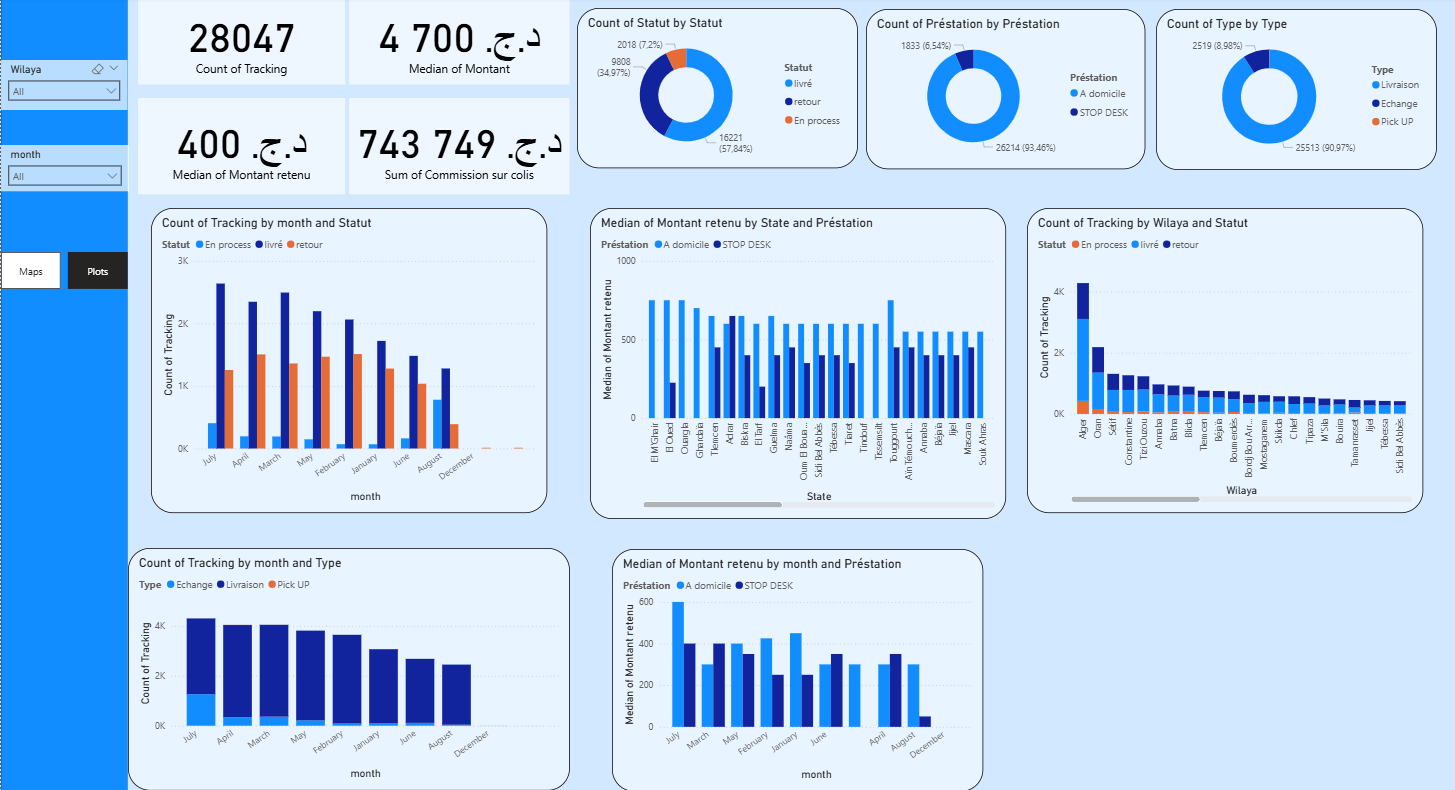

Layout of this report page (visuals, bound fields, positions):
{"tool":"powerbi","page":{"name":"Page 1","canvas":[1980,1080],"ordinal":0},"visuals":[{"type":"shape","box":[0,0,172.4,1080.1],"z":0},{"type":"donutChart","fields":{"Y":["CountNonNull(filtered_data.Type)"],"Category":["filtered_data.Type"]},"box":[1570.6,16.7,382,219.2],"z":1000},{"type":"donutChart","fields":{"Y":["CountNonNull(filtered_data.Statut)"],"Category":["filtered_data.Statut"]},"box":[783.8,15.2,382,217.6],"z":2000},{"type":"columnChart","fields":{"Category":["filtered_data.Wilaya"],"Y":["CountNonNull(filtered_data.Tracking)"],"Series":["filtered_data.Statut"]},"box":[1395.6,287.6,538.8,415.5],"z":3000},{"type":"slicer","fields":{"Values":["filtered_data.Wilaya"]},"box":[0,85.5,172.4,67.8],"z":4000},{"type":"card","fields":{"Values":["Median(filtered_data.Montant)"]},"box":[473.3,0,299.8,118.7],"z":5000},{"type":"card","fields":{"Values":["Median(filtered_data.Montant retenu)"]},"box":[185.7,137,281.6,130.9],"z":6000},{"type":"columnChart","fields":{"Category":["filtered_date.month"],"Y":["CountNonNull(filtered_date.Tracking)"],"Series":["filtered_date.Type"]},"box":[172.4,750,601.2,330.1],"z":7000},{"type":"donutChart","fields":{"Category":["filtered_date.Préstation"],"Y":["CountNonNull(filtered_date.Préstation)"]},"box":[1176.4,16.7,380.5,217.6],"z":8000},{"type":"slicer","fields":{"Values":["filtered_date.month"]},"box":[0,201.9,173.9,63.4],"z":9000},{"type":"card","fields":{"Values":["Count(filtered_data.Tracking)"]},"box":[185.7,0,281.6,118.7],"z":10000},{"type":"clusteredColumnChart","fields":{"Category":["filtered_date.month"],"Series":["filtered_date.Préstation"],"Y":["Median(filtered_date.Montant retenu)"]},"box":[831,750.3,505.3,330.3],"z":11000},{"type":"card","fields":{"Values":["Sum(filtered_date.Commission sur colis)"]},"box":[473.3,137,299.8,130.9],"z":12000},{"type":"clusteredColumnChart","fields":{"Y":["CountNonNull(filtered_date.Tracking)"],"Category":["filtered_date.month"],"Series":["filtered_date.Statut"]},"box":[203.9,287.6,538.8,415.5],"z":13000},{"type":"clusteredColumnChart","fields":{"Category":["filtered_date.State"],"Series":["filtered_date.Préstation"],"Y":["Median(filtered_date.Montant retenu)"]},"box":[800.5,287.6,566.1,423.1],"z":14000},{"type":"bookmarkNavigator","box":[0,346.3,172.4,50.1],"z":15000}]}

Visuals, with their boxes on the page's 1980x1080 design canvas (x1, y1, x2, y2). These are canvas units, not pixel positions in the 1455x790 screenshot, which may show the page scaled, cropped or inside an application window:
shape: bbox(0, 0, 172, 1080)
donutChart - CountNonNull(filtered_data.Type) x filtered_data.Type: bbox(1571, 17, 1953, 236)
donutChart - CountNonNull(filtered_data.Statut) x filtered_data.Statut: bbox(784, 15, 1166, 233)
columnChart - filtered_data.Wilaya x CountNonNull(filtered_data.Tracking): bbox(1396, 288, 1934, 703)
slicer - filtered_data.Wilaya: bbox(0, 86, 172, 153)
card - Median(filtered_data.Montant): bbox(473, 0, 773, 119)
card - Median(filtered_data.Montant retenu): bbox(186, 137, 467, 268)
columnChart - filtered_date.month x CountNonNull(filtered_date.Tracking): bbox(172, 750, 774, 1080)
donutChart - filtered_date.Préstation x CountNonNull(filtered_date.Préstation): bbox(1176, 17, 1557, 234)
slicer - filtered_date.month: bbox(0, 202, 174, 265)
card - Count(filtered_data.Tracking): bbox(186, 0, 467, 119)
clusteredColumnChart - filtered_date.month x filtered_date.Préstation: bbox(831, 750, 1336, 1081)
card - Sum(filtered_date.Commission sur colis): bbox(473, 137, 773, 268)
clusteredColumnChart - CountNonNull(filtered_date.Tracking) x filtered_date.month: bbox(204, 288, 743, 703)
clusteredColumnChart - filtered_date.State x filtered_date.Préstation: bbox(800, 288, 1367, 711)
bookmarkNavigator: bbox(0, 346, 172, 396)
